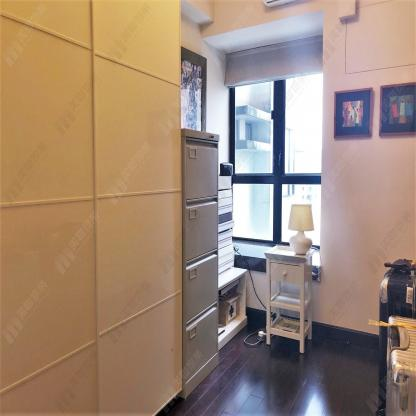Windowsill: (200, 9, 325, 268)
